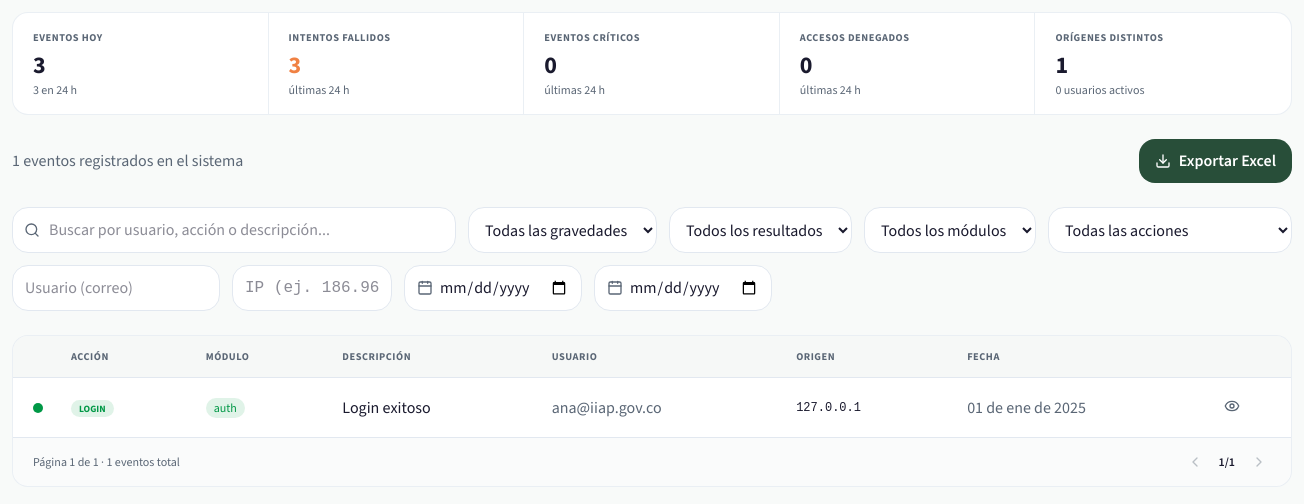
it: AuditoriaTab — resumen de 24 horas › pulsar «Intentos fallidos» filtra por la acción login_failed
The width and height of the screenshot is (1304, 504).
Click the button "Intentos fallidos 3 últimas 24 h".
click(396, 64)  # box [269, 13, 524, 114]
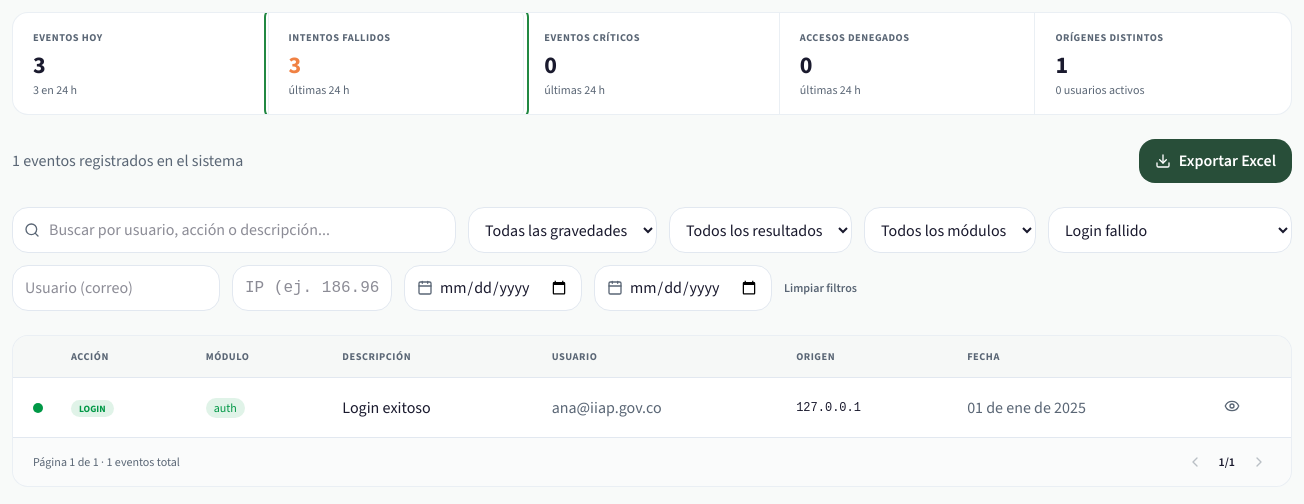
Check: the dropdown named "Acción" shows "Login fallido", box [1048, 207, 1292, 253]
